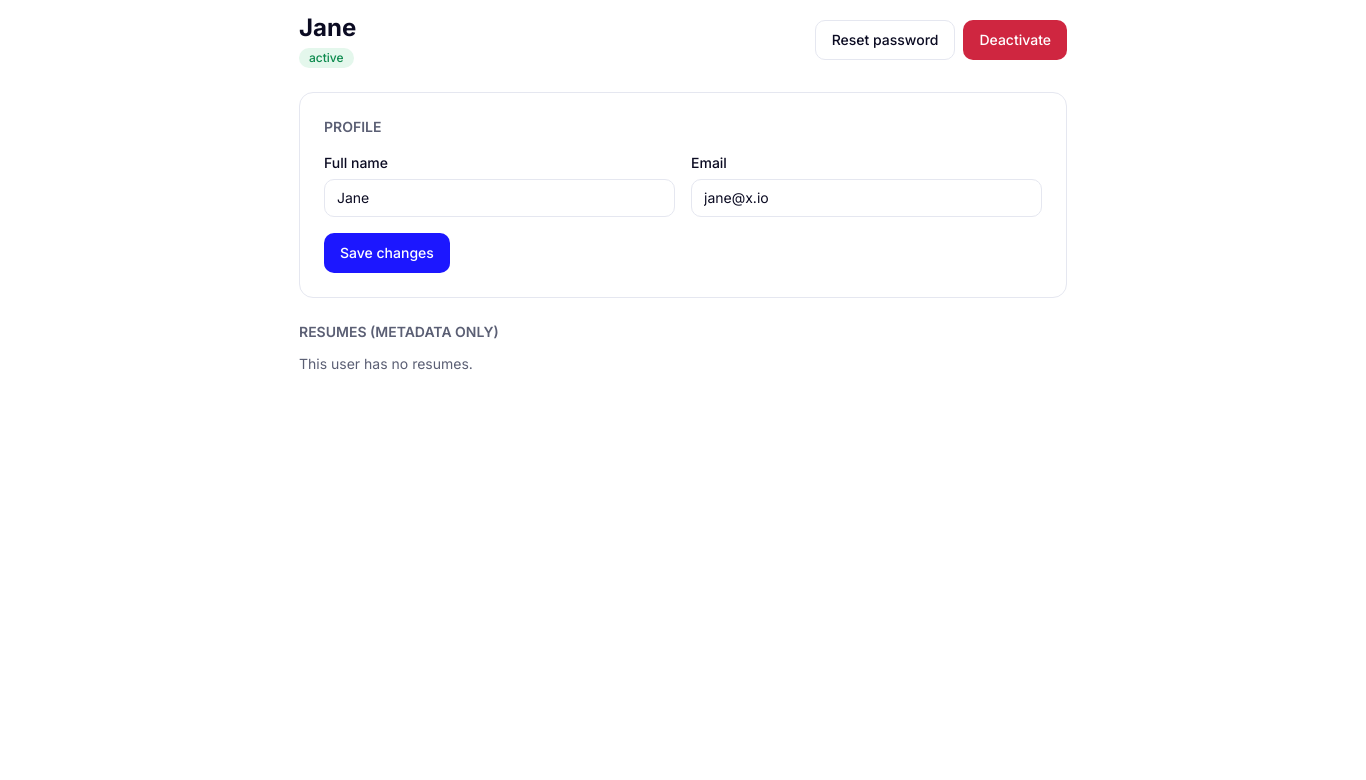
Test: AdminUserDetailPage › resets the password and deactivates the user
The width and height of the screenshot is (1366, 780).
Click the button "Reset password": (885, 40) [815,20,955,60]
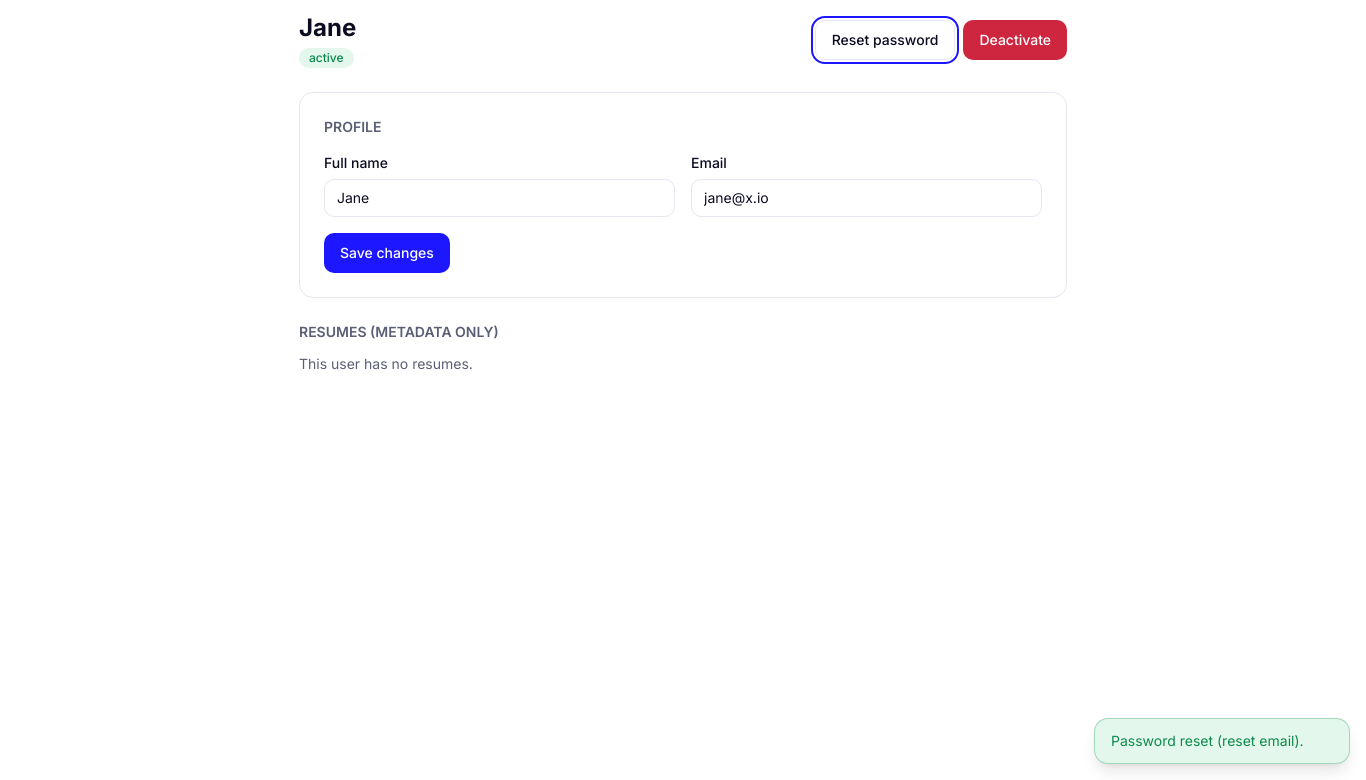
Click the button "Deactivate": (1015, 40) [964,20,1067,60]
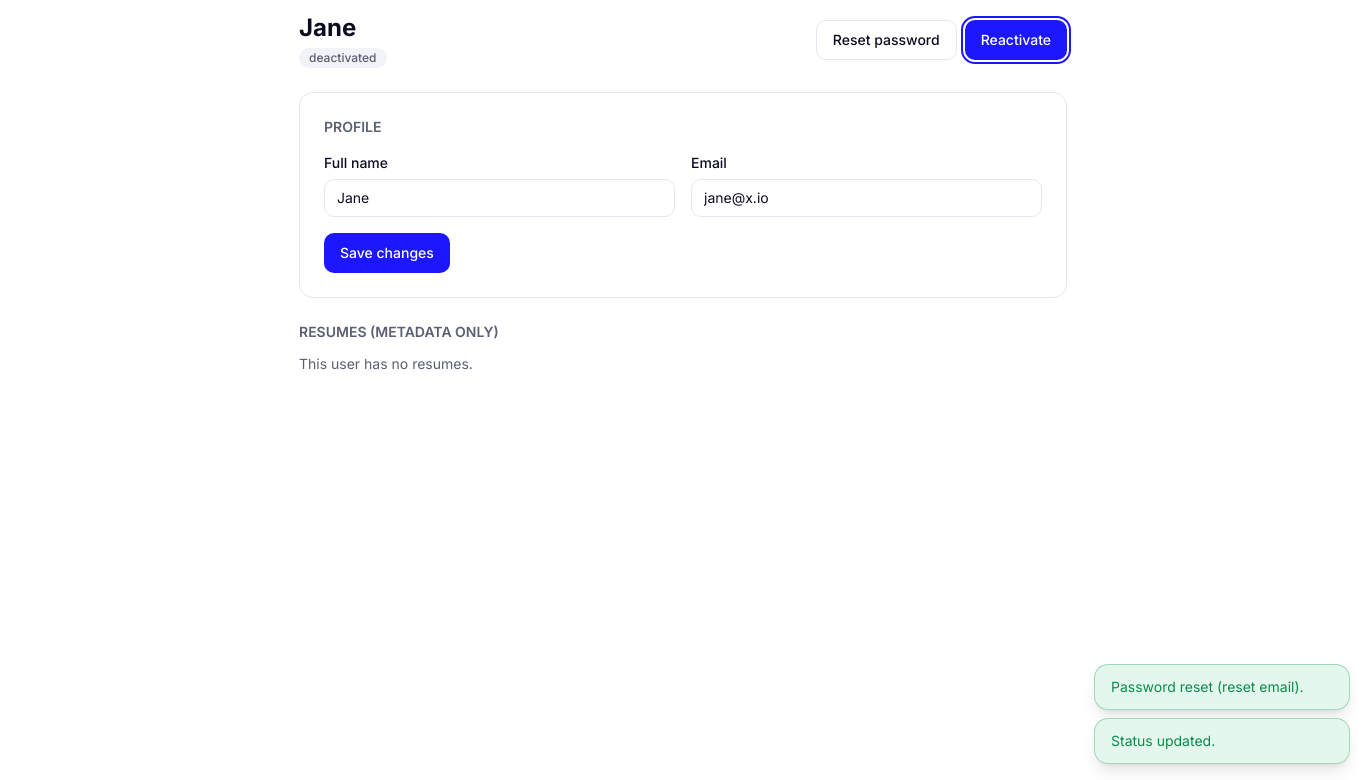
Click the button "Reactivate": (1016, 40) [965,20,1067,60]
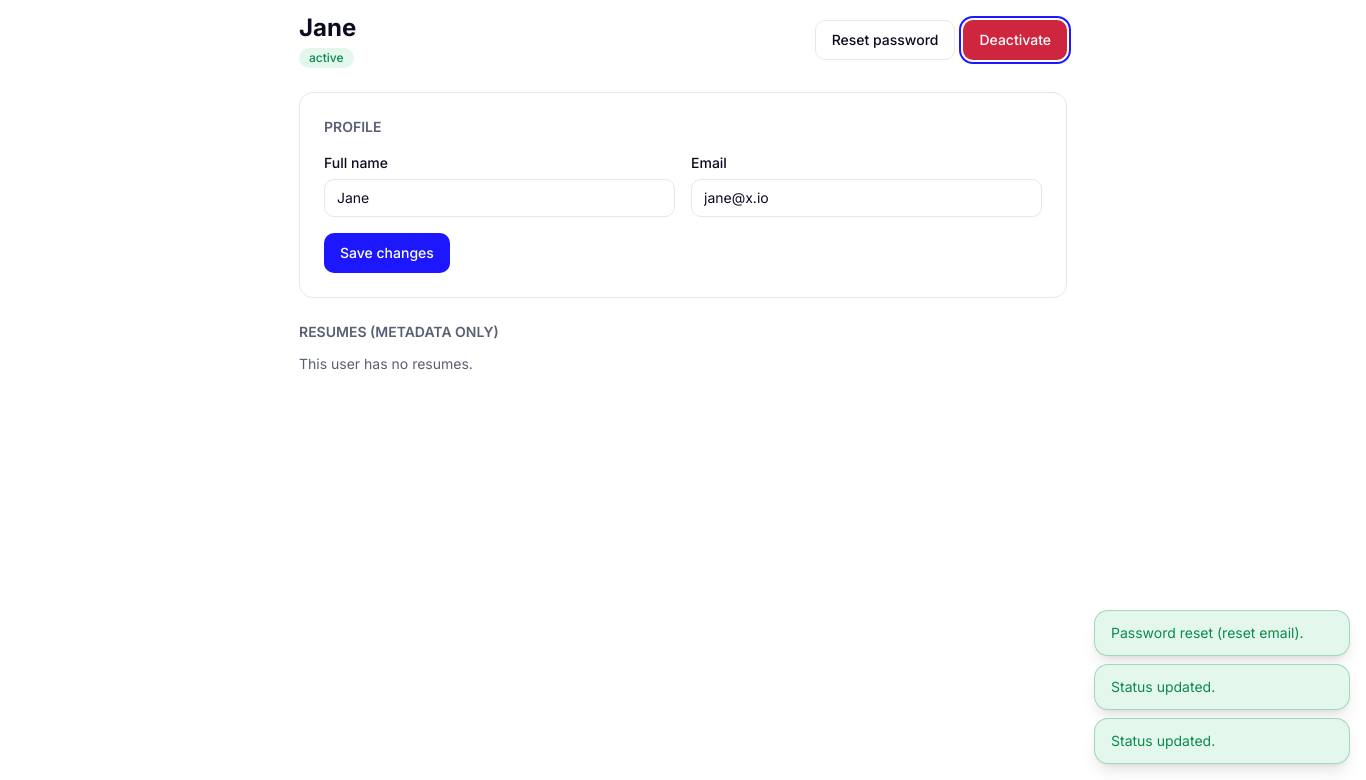
Expected: the button "Deactivate" is shown, [964,20,1067,60]
